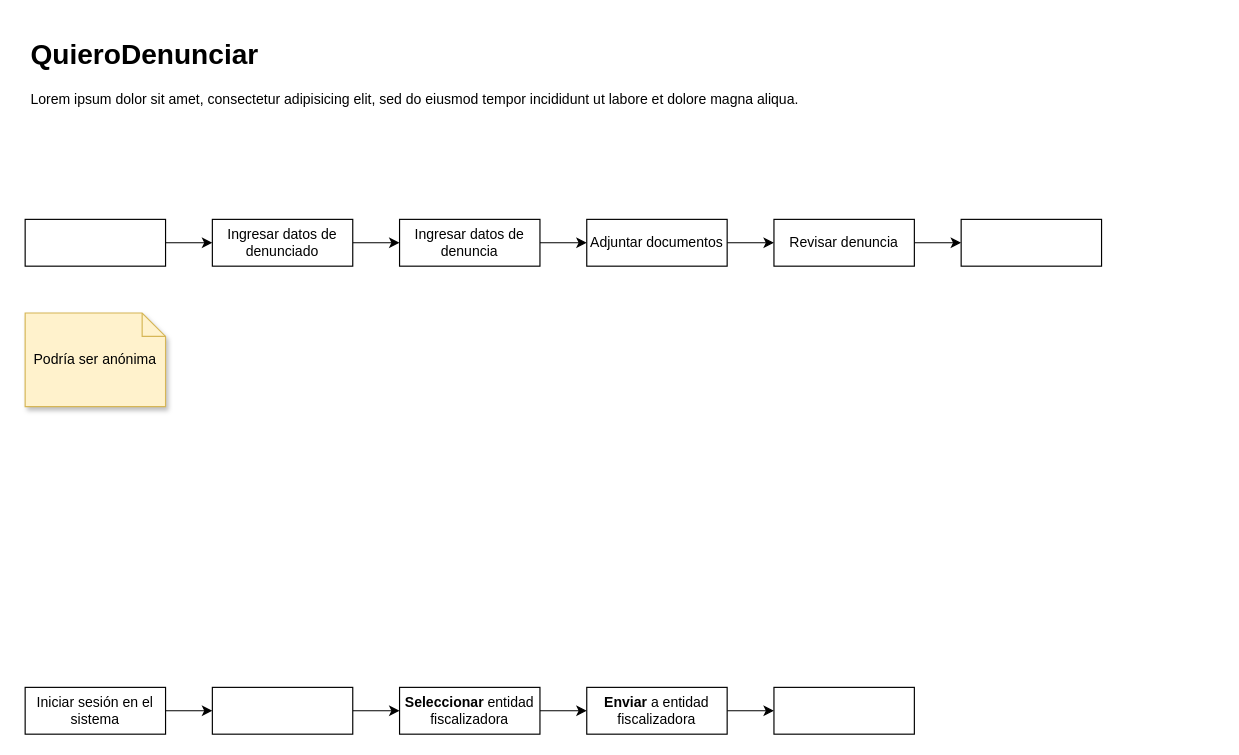
Image size: 1239x755. Some labels were removed from this diagram. The centre of each missing label's shape, as x and y in pixels:
"Cambiar estado de la denuncia a enviada" goes at point (843, 710).
"Enviar denuncia" goes at point (1031, 242).
"Ingresar datos de denunciante" goes at point (95, 242).
"Mostrar las denuncias pendientes" goes at point (282, 710).
